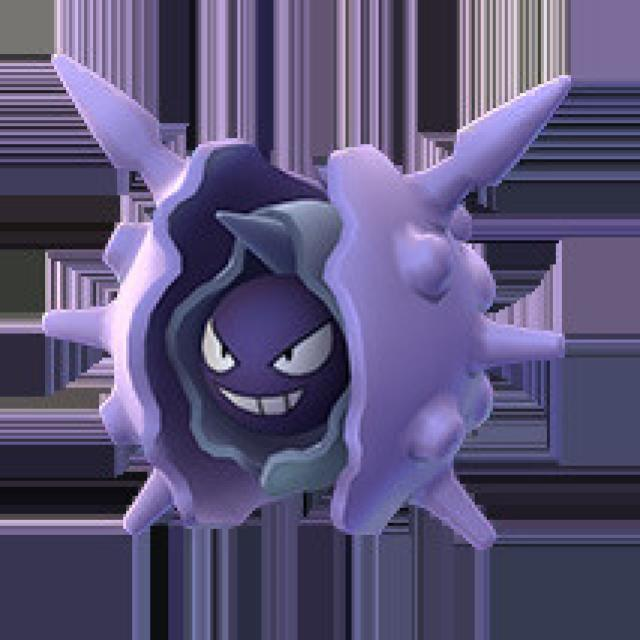Cloyster: (52, 122, 510, 546)
